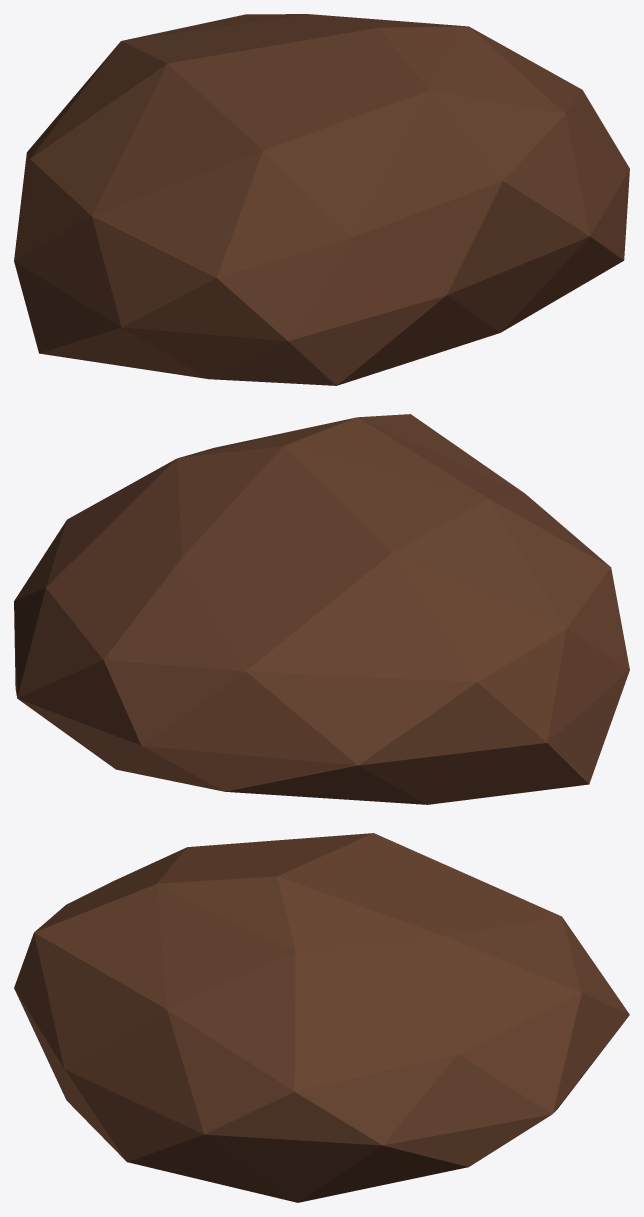
The model's file is m_rock_lighter.glb.
The picture shows the model from 3 angles, top to bottom: view 1: azimuth 30°, elevation 25°; view 2: azimuth 150°, elevation 25°; view 3: azimuth 270°, elevation 25°; orthographic projection. The views are drawn at different scales.
Parts seen in each view (by area): view 1: Icosphere; view 2: Icosphere; view 3: Icosphere.
Boxes of the visible parts, box(x1,y1,x2,y2) form: Icosphere: box(14, 14, 629, 385); Icosphere: box(14, 414, 629, 804); Icosphere: box(14, 833, 629, 1202).
Size of the model in its own units: 1.69 by 0.9124 by 1.72.
Materials: 1 (1 with a texture image).
